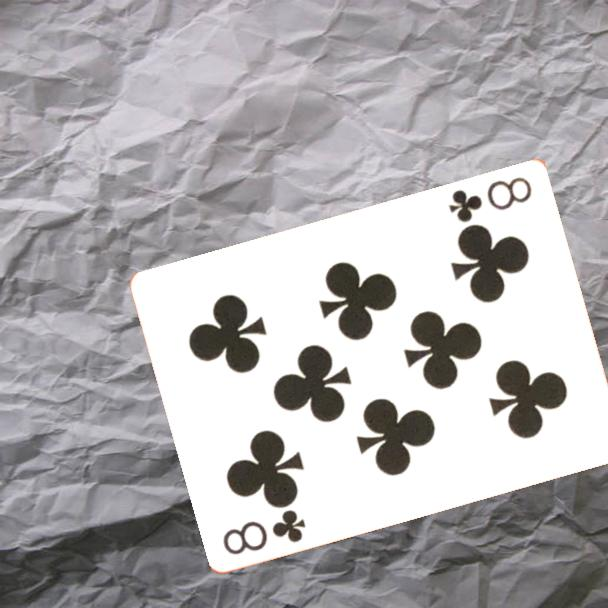c08: (445, 172, 535, 225), (219, 505, 309, 557)
